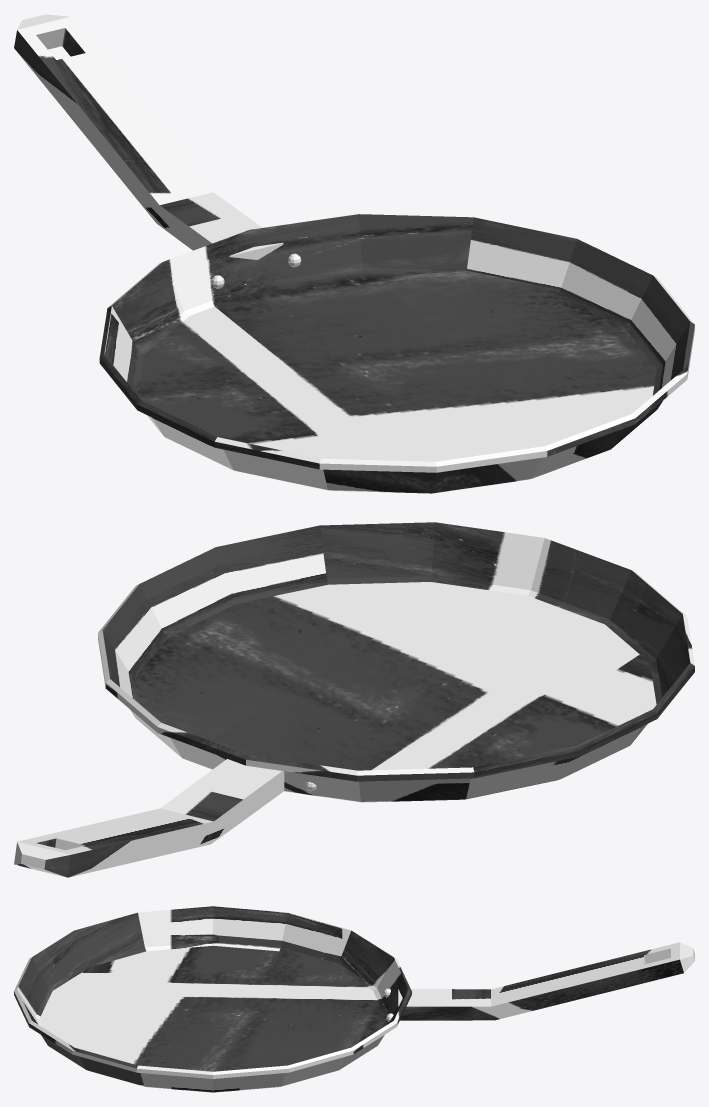
File: sarten 2 .fbx
3 renders of one model, top to bottom at view 1: azimuth 30°, elevation 25°; view 2: azimuth 150°, elevation 25°; view 3: azimuth 270°, elevation 25°, orthographic. The views are drawn at different scales.
Parts seen in each view (by area): view 1: sarten; view 2: sarten; view 3: sarten.
Part boxes in pixels (x1,y1,x2,y2): sarten: (14, 14, 694, 493); sarten: (14, 522, 694, 877); sarten: (14, 906, 694, 1092).
Bounding box in the file's own units: 30.35 × 5.73 × 51.95.
